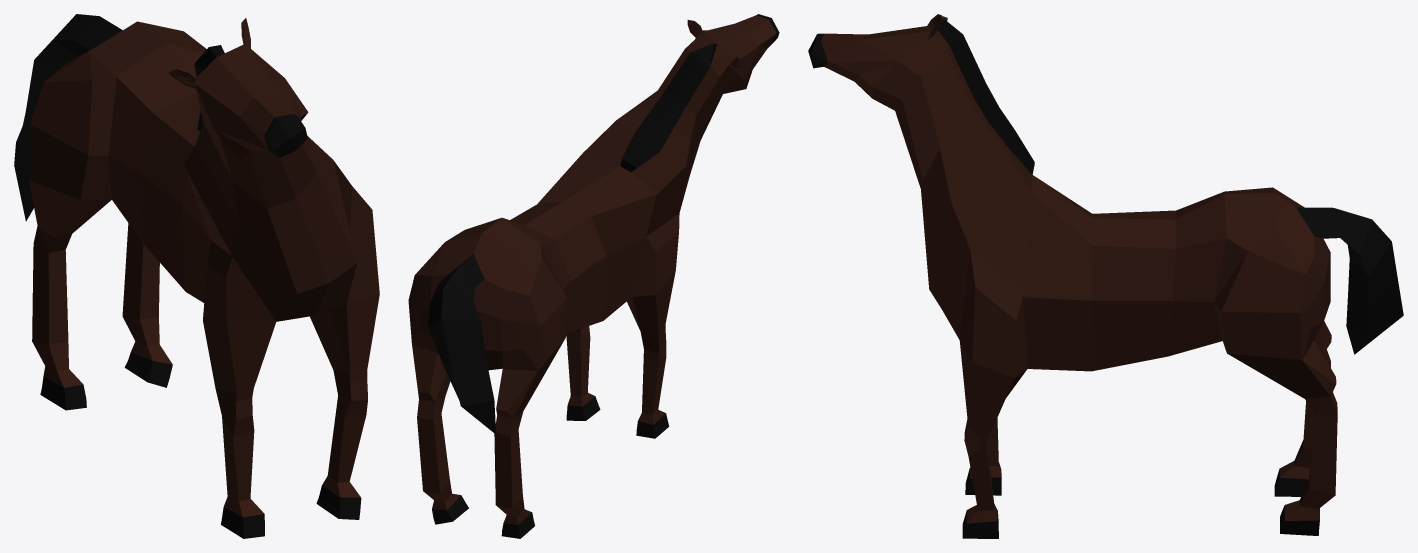
The model's file is Horse_000005.obj.
3 views of the same model, side by side, from view 1: azimuth 30°, elevation 25°; view 2: azimuth 150°, elevation 25°; view 3: azimuth 270°, elevation 25° (orthographic). The views are drawn at different scales.
Visible parts, largest first — view 1: Horse_Cylinder; view 2: Horse_Cylinder; view 3: Horse_Cylinder.
Part boxes in pixels (bbox=[...]): Horse_Cylinder: bbox=[14, 14, 379, 538]; Horse_Cylinder: bbox=[408, 14, 779, 538]; Horse_Cylinder: bbox=[808, 14, 1403, 538].
Size of the model in its own units: 3.54 by 7.65 by 8.78.
